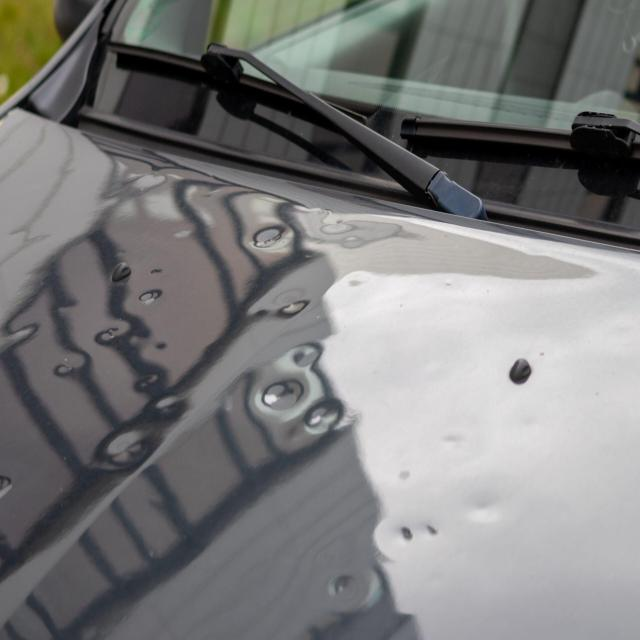dent: (252, 332, 351, 446), (102, 367, 194, 479), (258, 283, 325, 325), (321, 567, 376, 615), (380, 515, 444, 555), (246, 218, 302, 256), (318, 207, 366, 250), (50, 341, 98, 383), (465, 487, 502, 526), (93, 325, 123, 349), (138, 285, 165, 306), (0, 472, 14, 500)
